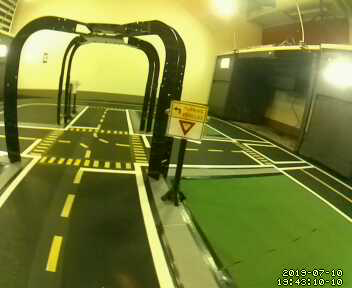Turn Yield: (165, 100, 207, 146)
